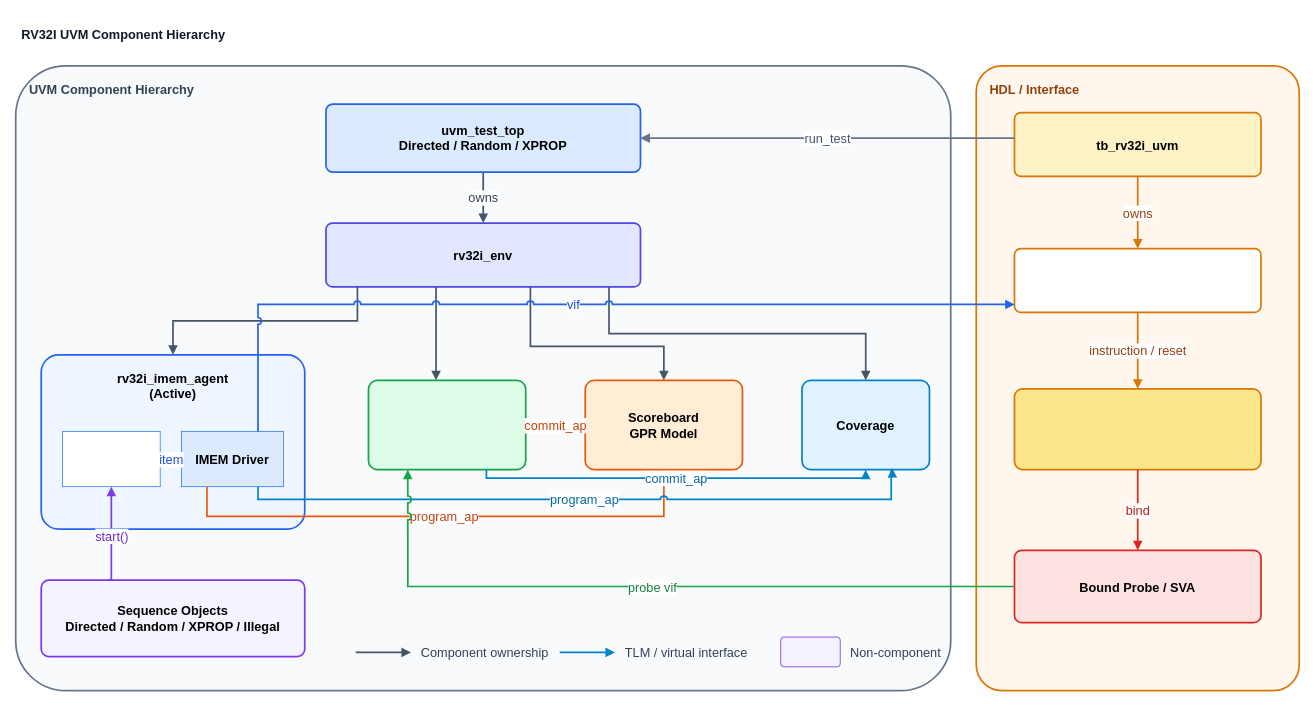
This 1314x706 diagram has some shape labels left out. The shapes that lost their labels are listed below. From the top down, each one's centre as x and y in pixels, then its label:
At [1137,280]: "rv32i_core_if".
At [446,424]: "Probe Monitor (Passive)".
At [1137,429]: "rv32i_cpu DUT".
At [111,459]: "Sequencer".
At [810,651]: "Object".
